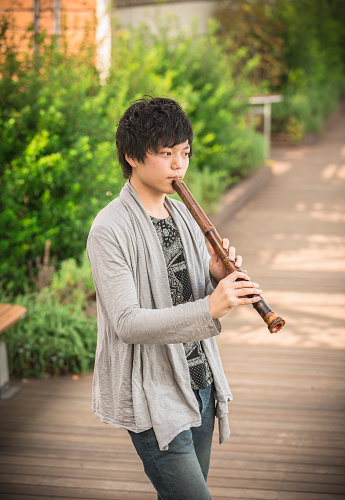em pe: (77, 100, 267, 500)
